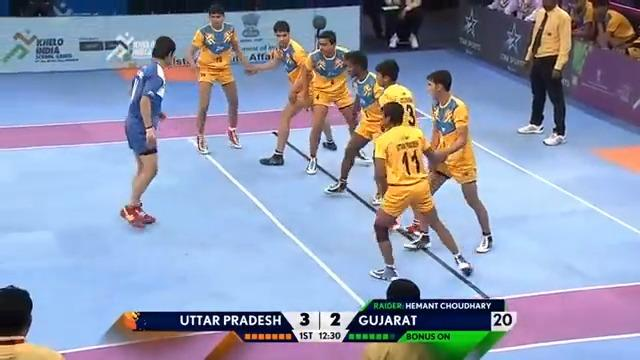Player: (369, 101, 472, 281), (401, 69, 493, 253), (244, 20, 330, 166), (299, 29, 370, 174), (186, 3, 254, 154), (323, 50, 388, 205), (370, 58, 418, 234), (0, 284, 65, 359)
Raider: (119, 35, 176, 226)
referee: (511, 3, 567, 148), (360, 278, 438, 359)
